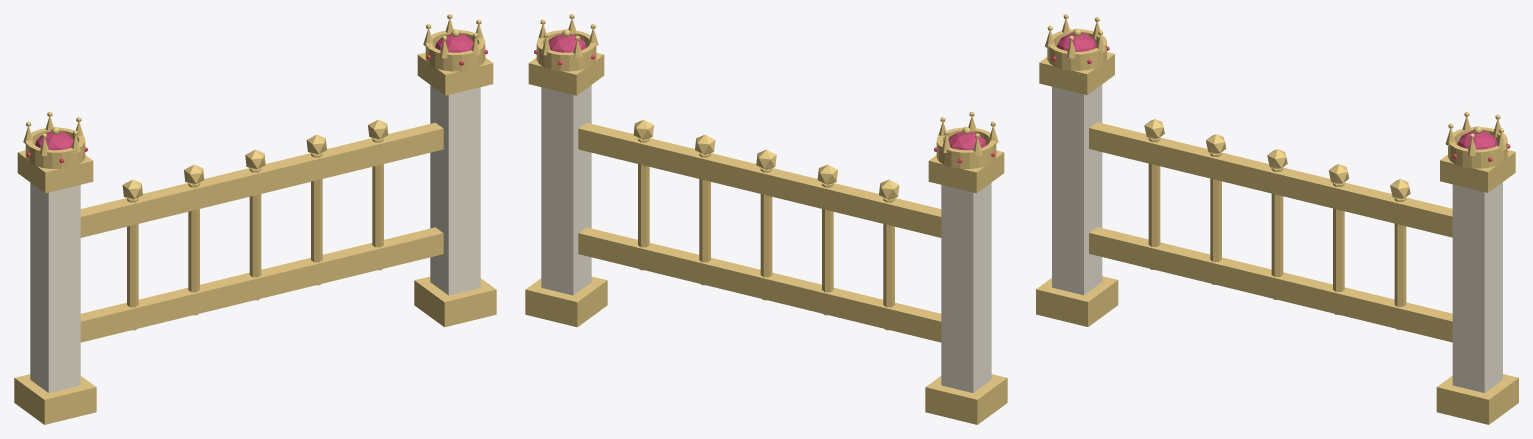
Rendered from HOB_CrownFence_2m.fbx.
3 views of the same model, side by side, from view 1: azimuth 30°, elevation 25°; view 2: azimuth 150°, elevation 25°; view 3: azimuth 330°, elevation 25° (orthographic).
Parts seen in each view (by area): view 1: HOB_CrownFence_2m; view 2: HOB_CrownFence_2m; view 3: HOB_CrownFence_2m.
Boxes of the visible parts, bbox=[...] form: HOB_CrownFence_2m: bbox=[14, 14, 496, 424]; HOB_CrownFence_2m: bbox=[525, 14, 1007, 424]; HOB_CrownFence_2m: bbox=[1036, 14, 1518, 424].
Size of the model in its own units: 228 by 136 by 26.97.
